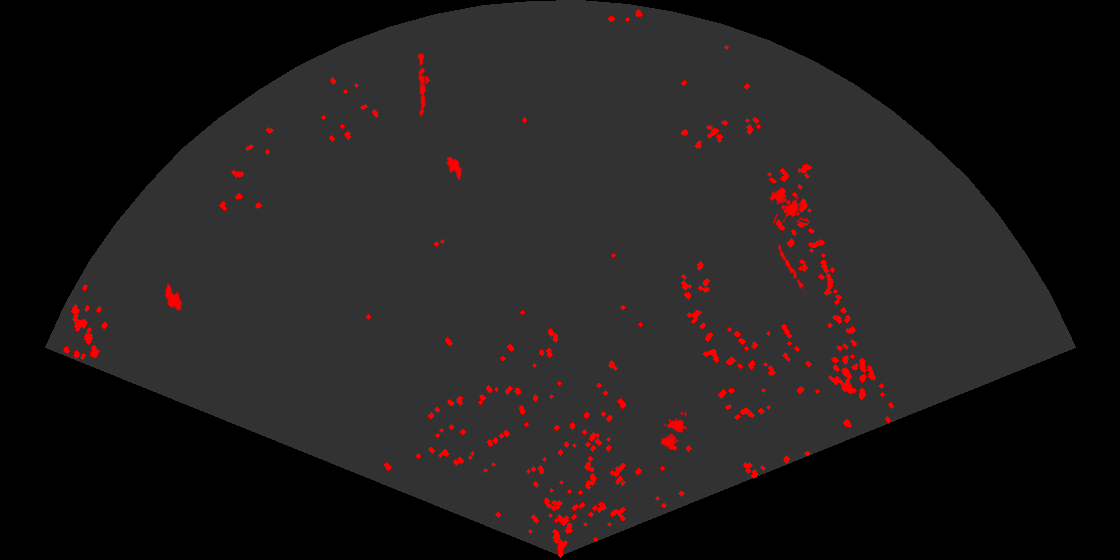AUV: (163, 282, 184, 313), (445, 155, 463, 182)
cage: (768, 186, 810, 223), (659, 412, 687, 452)
chain: (776, 243, 807, 294), (416, 52, 428, 117)
